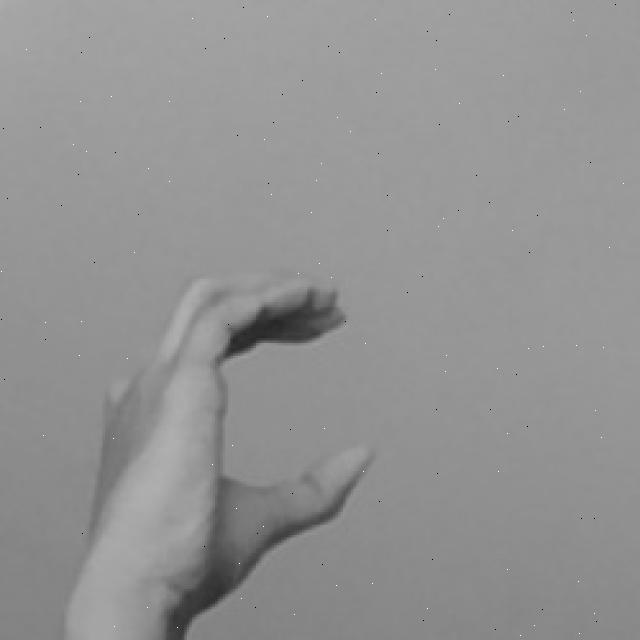C: (62, 273, 376, 640)
